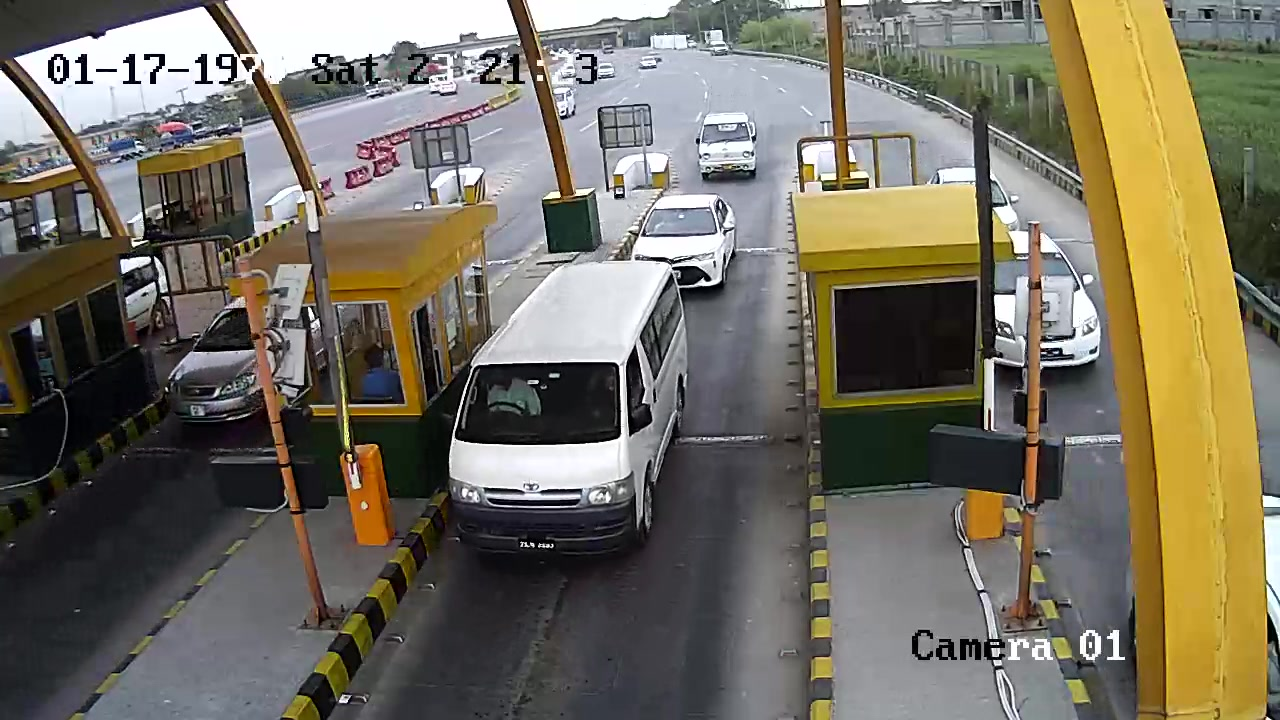F2: (442, 261, 697, 559)
